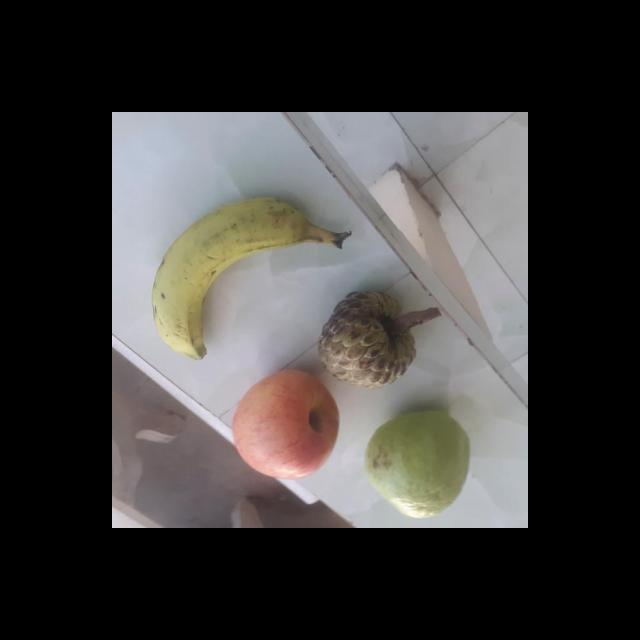Sakya fruit: (320, 290, 427, 390)
apple: (231, 372, 344, 482)
banana: (154, 198, 350, 362)
guava: (368, 412, 472, 514)
